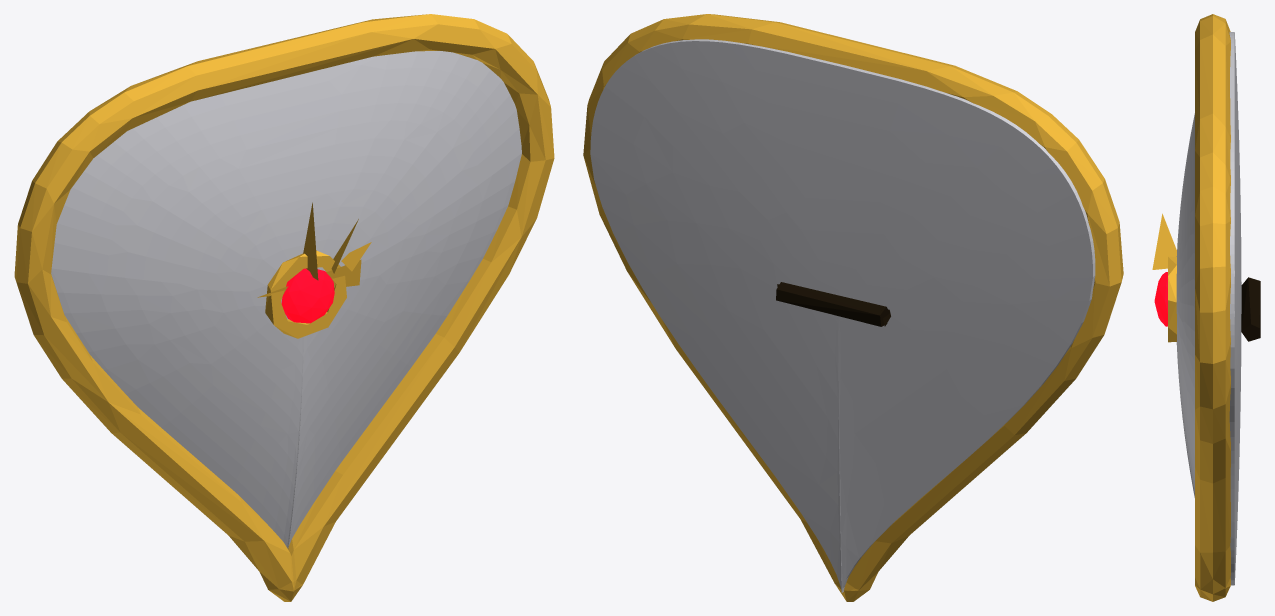
The model's file is shield_3.glb.
3 views of the same model, side by side, from view 1: azimuth 30°, elevation 25°; view 2: azimuth 150°, elevation 25°; view 3: azimuth 270°, elevation 25° (orthographic). The views are drawn at different scales.
Visible parts, largest first — view 1: part_01, part_02, part_10, part_09; view 2: part_01, part_02, part_11; view 3: part_02, part_01, part_11, part_10, part_05, part_09.
Part boxes in pixels (x1,y1,x2,y2): part_01: (51,51,521,548); part_02: (14,14,554,601); part_10: (265,250,346,338); part_09: (281,268,334,323); part_01: (590,39,1095,592); part_02: (583,14,1123,601); part_11: (776,282,889,326); part_02: (1195,14,1230,601); part_01: (1176,32,1241,585); part_11: (1241,277,1260,341); part_10: (1168,256,1176,342); part_05: (1152,213,1176,269); part_09: (1154,272,1167,326).
Bounding box in the file's own units: 1.03 × 1.03 × 0.1925.
